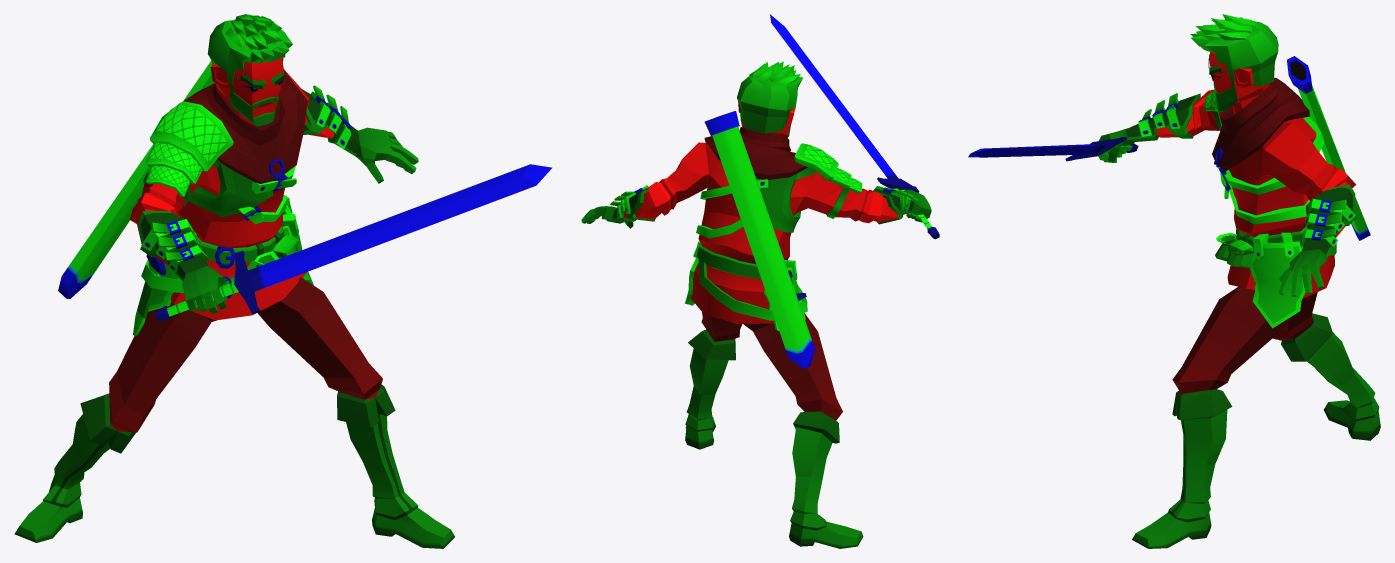
File: M_Swordsman_prePosed.fbx
3 renders of one model, left to right at view 1: azimuth 30°, elevation 25°; view 2: azimuth 150°, elevation 25°; view 3: azimuth 270°, elevation 25°, orthographic. The views are drawn at different scales.
Parts seen in each view (by area): view 1: M_Swordsman_prePosed; view 2: M_Swordsman_prePosed; view 3: M_Swordsman_prePosed.
Part boxes in pixels (bbox=[...]): M_Swordsman_prePosed: bbox=[14, 14, 552, 548]; M_Swordsman_prePosed: bbox=[581, 14, 939, 548]; M_Swordsman_prePosed: bbox=[968, 14, 1380, 548].
Bounding box in the file's own units: 142 × 189 × 152.
